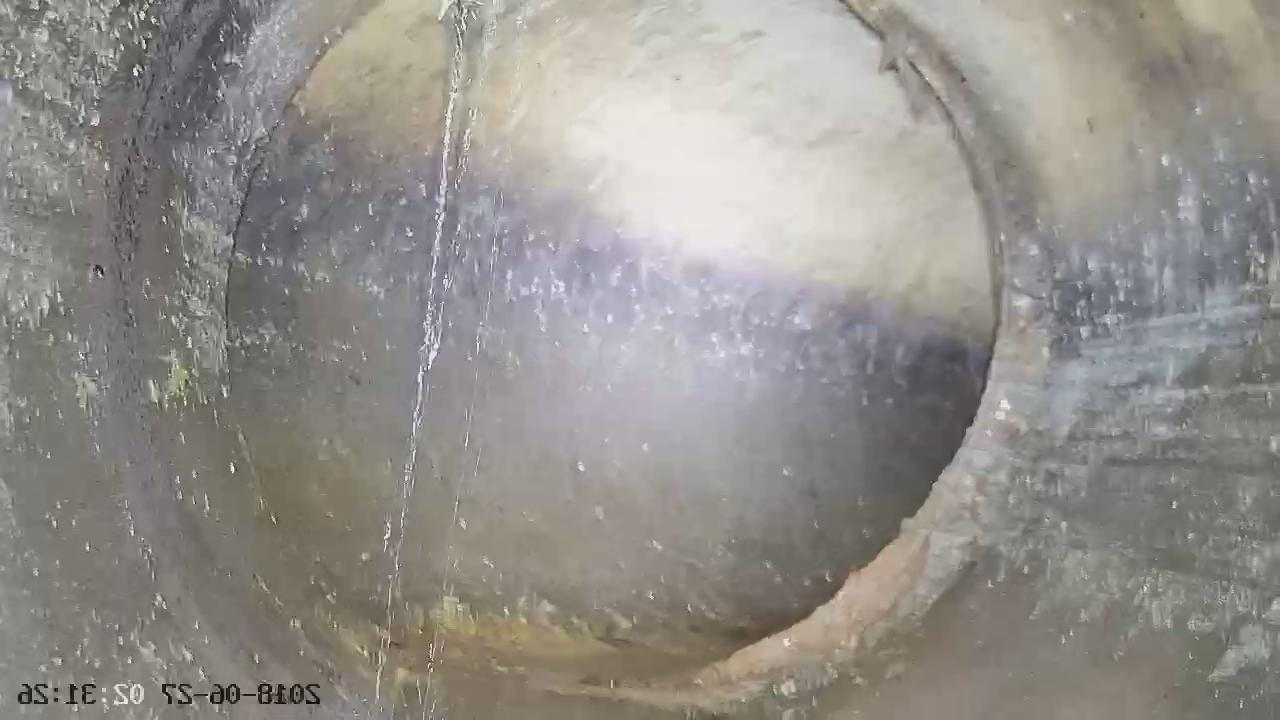SL: (331, 2, 542, 719)
